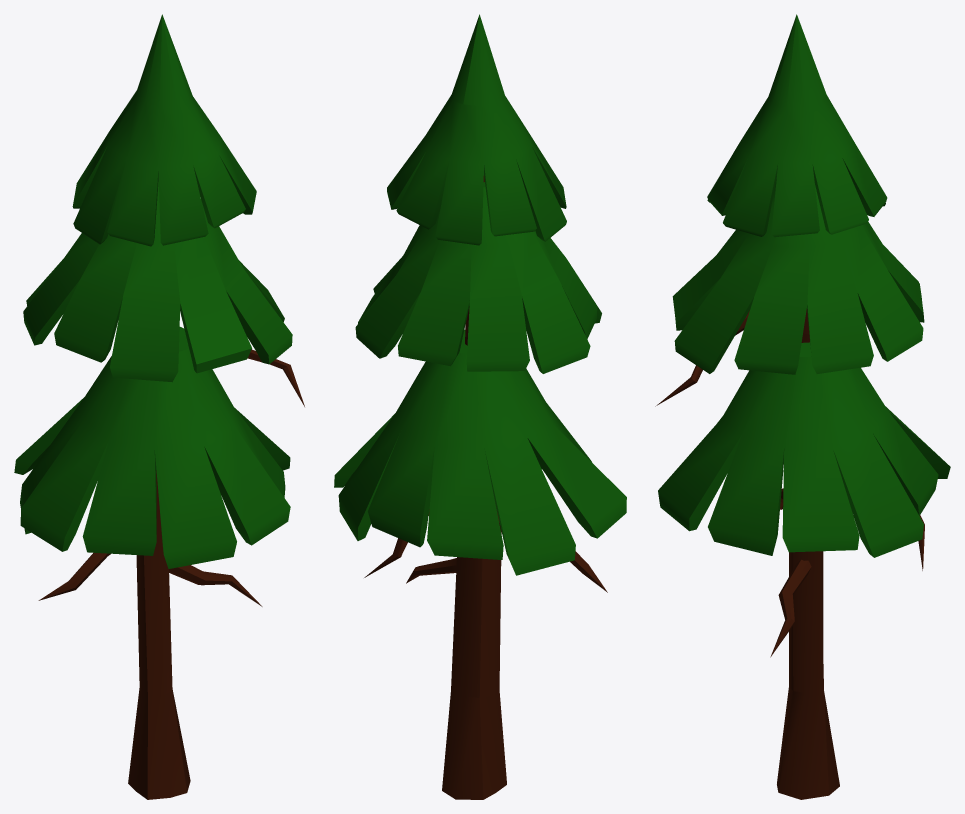
Rendered from TreeFir4.obj.
3 renders of one model, left to right at view 1: azimuth 30°, elevation 25°; view 2: azimuth 150°, elevation 25°; view 3: azimuth 270°, elevation 25°, orthographic.
Parts seen in each view (by area): view 1: Tree_Fir_4; view 2: Tree_Fir_4; view 3: Tree_Fir_4.
Part boxes in pixels (bbox=[...]): Tree_Fir_4: bbox=[14, 14, 304, 799]; Tree_Fir_4: bbox=[334, 14, 626, 799]; Tree_Fir_4: bbox=[655, 14, 950, 799].
Bounding box in the file's own units: 0.1252 × 0.366 × 0.1271.
